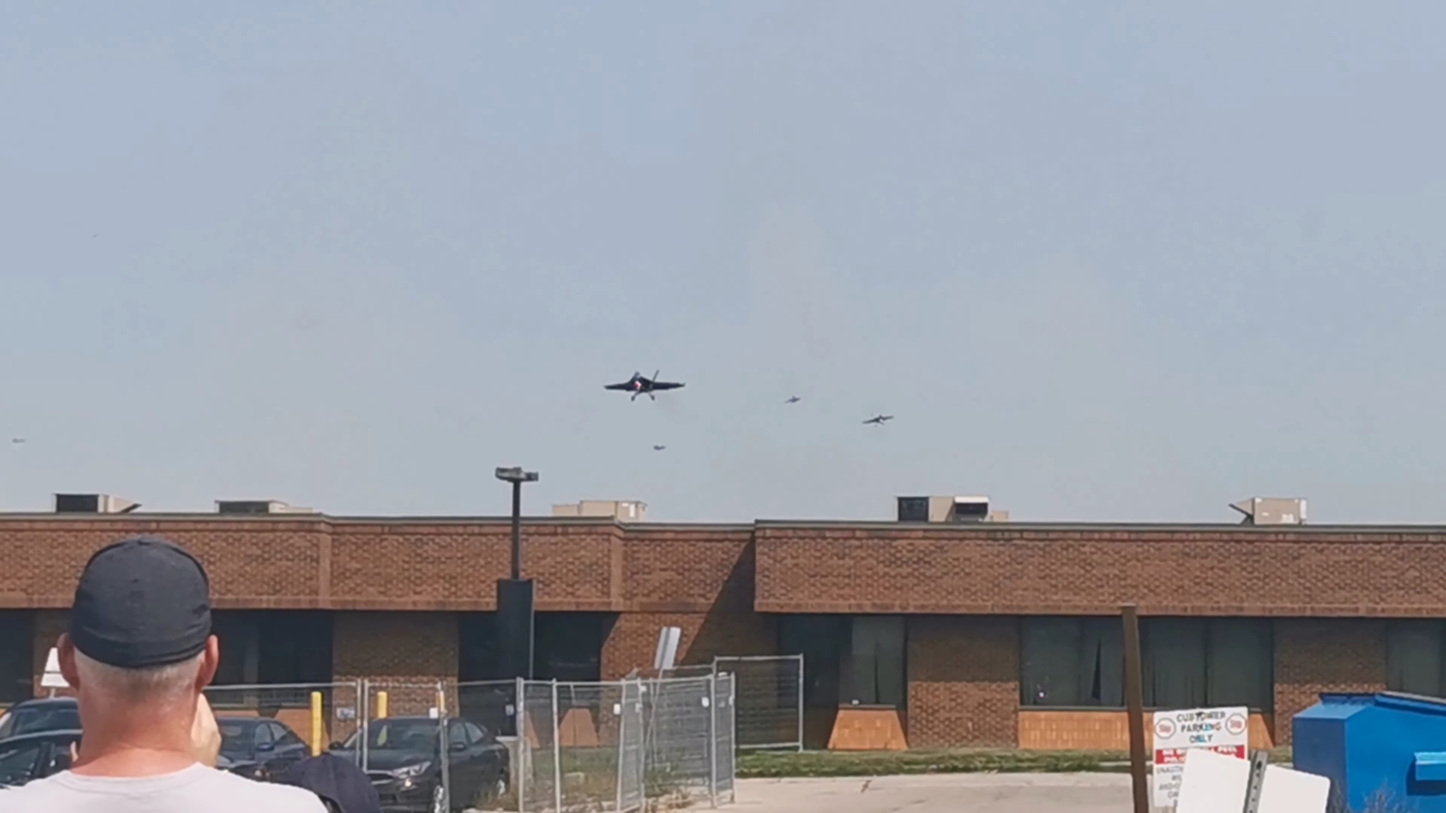airplane: (593, 362, 698, 414)
